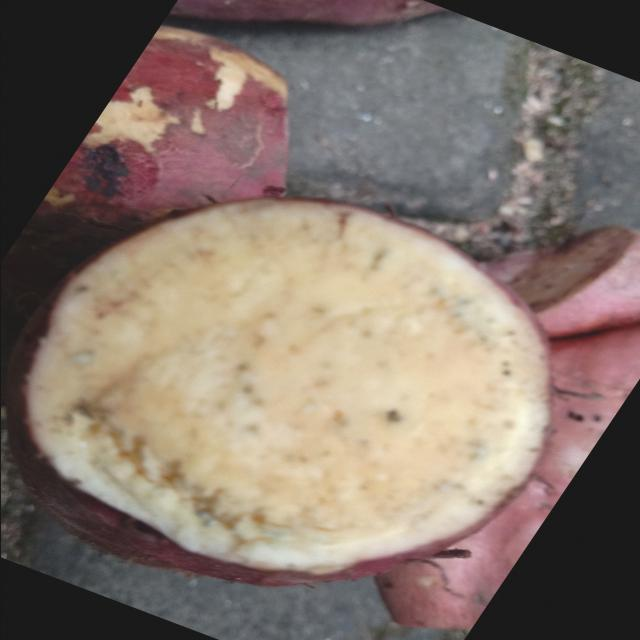Healthy Sweet Potato: (7, 199, 548, 586)
